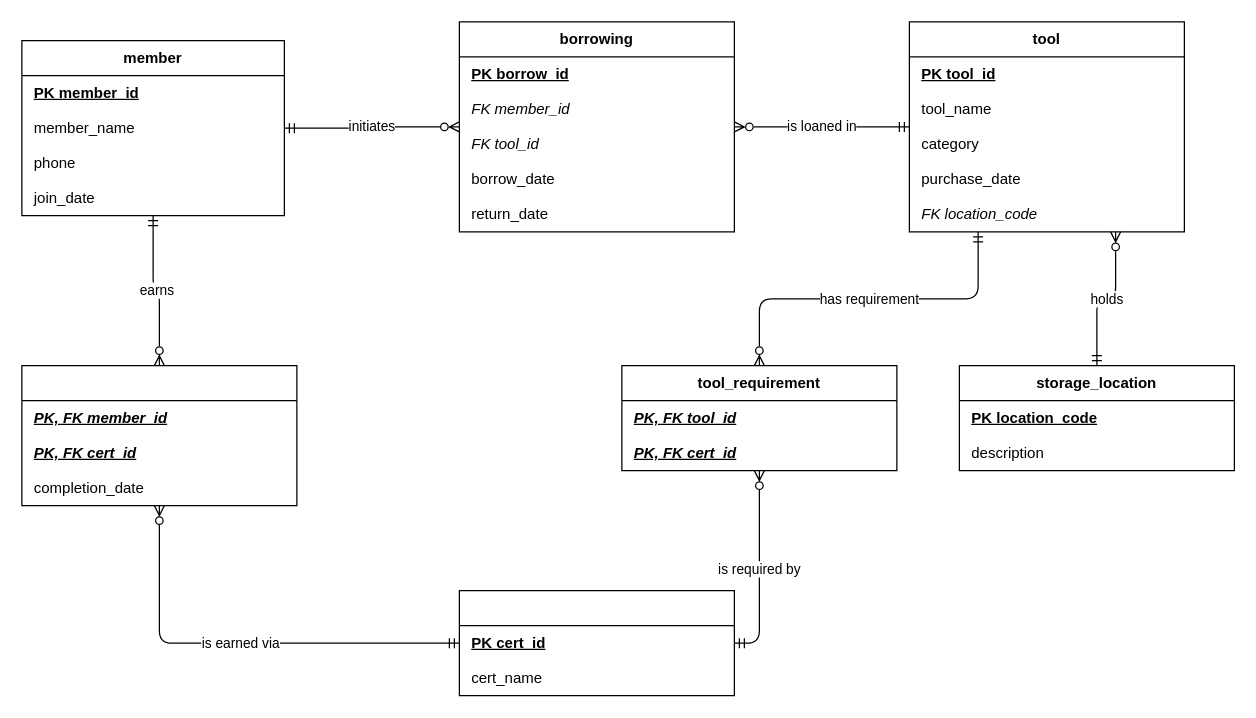
Some shapes in this 1256 by 718 pixel diagram are drawn without their labels. The box of each missing label's shape, as (x1, y1, x2, y2) in pixels:
certification: (458, 589, 734, 696)
member_certification: (21, 364, 297, 506)
